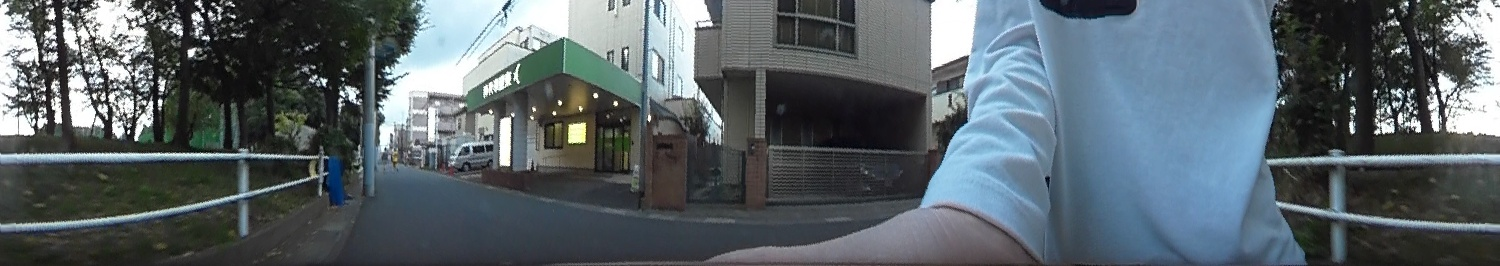difficult_person: (379, 144, 389, 169), (389, 143, 399, 167)
